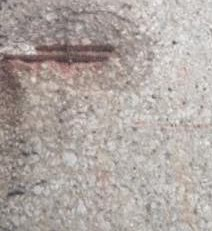Exposed reinforcement: (1, 53, 110, 64), (34, 43, 116, 54)
Spalling: (1, 6, 154, 87)
